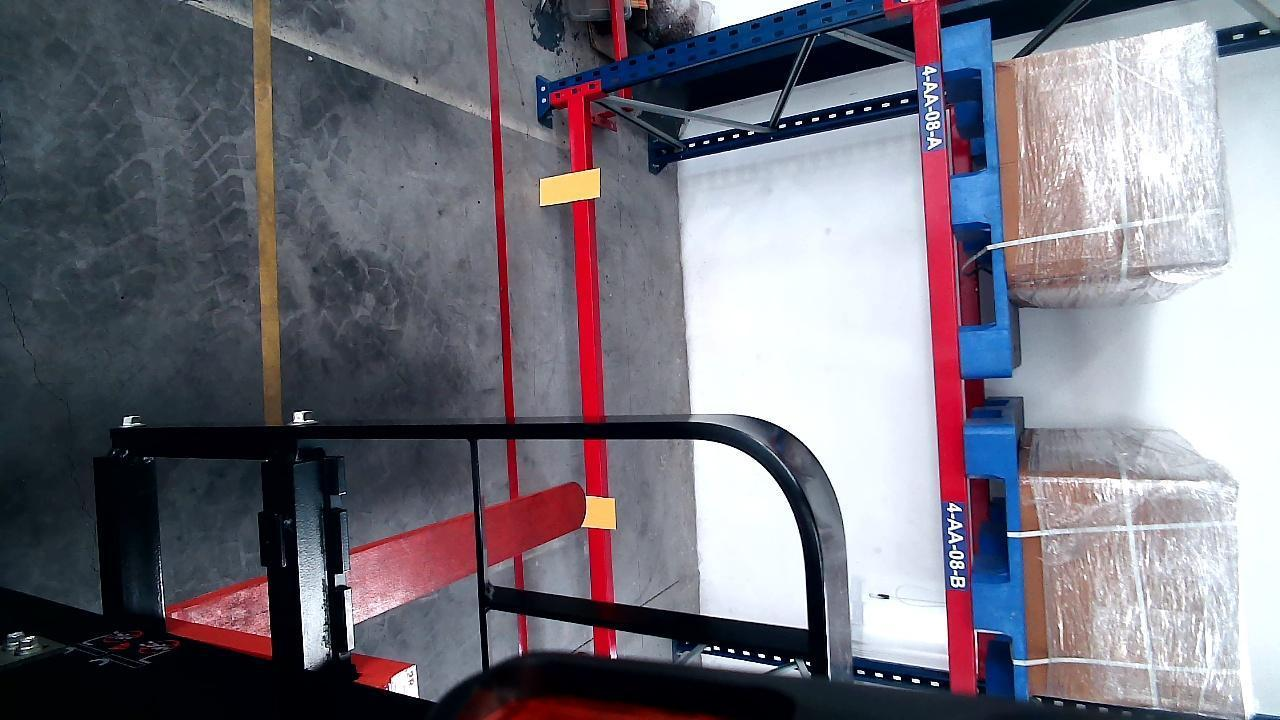h_rack: (919, 3, 973, 686), (566, 93, 620, 655)
orange_strip: (539, 168, 600, 205), (584, 495, 616, 528)
red_line: (486, 4, 526, 652)
small_pallet: (945, 15, 1009, 375), (970, 428, 1027, 691)
yellow_line: (255, 0, 281, 417)
